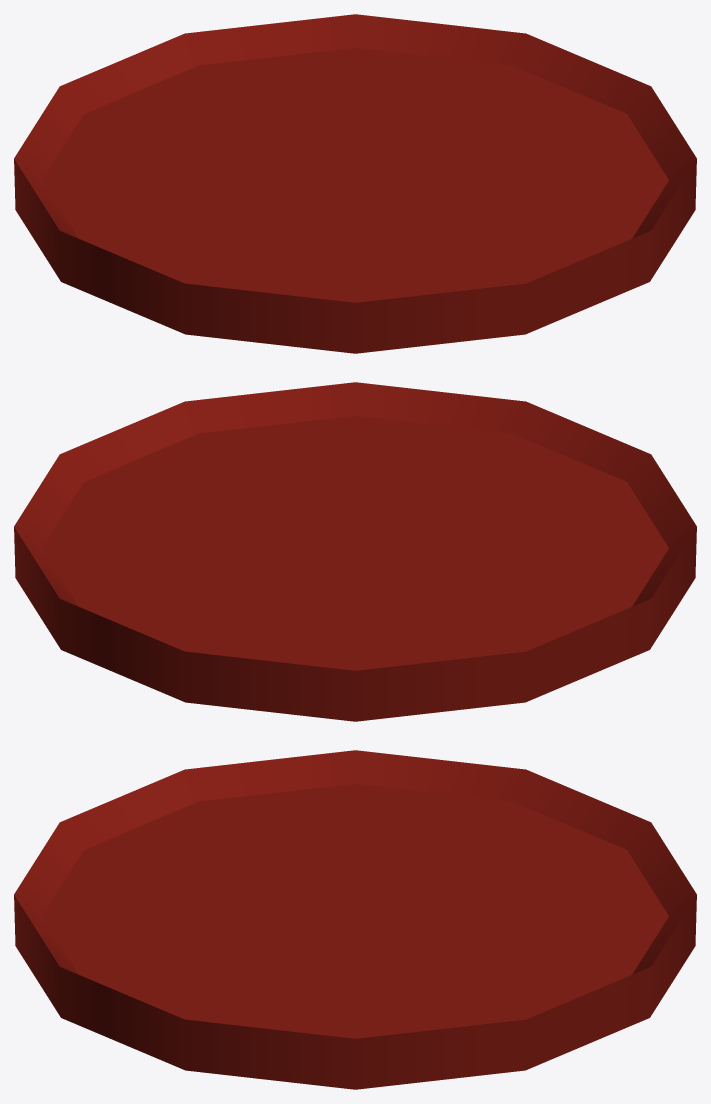
The model's file is Tależ do tortu_duży.fbx.
3 views of the same model, one above another, from view 1: azimuth 30°, elevation 25°; view 2: azimuth 150°, elevation 25°; view 3: azimuth 270°, elevation 25° (orthographic).
Visible parts, largest first — view 1: Tależ do tortu_Big; view 2: Tależ do tortu_Big; view 3: Tależ do tortu_Big.
Boxes of the visible parts, x1,y1,x2,y2 form: Tależ do tortu_Big: (14, 14, 696, 353); Tależ do tortu_Big: (14, 382, 696, 721); Tależ do tortu_Big: (14, 750, 696, 1089).
Bounding box in the file's own units: 26.49 × 2.21 × 26.49.
